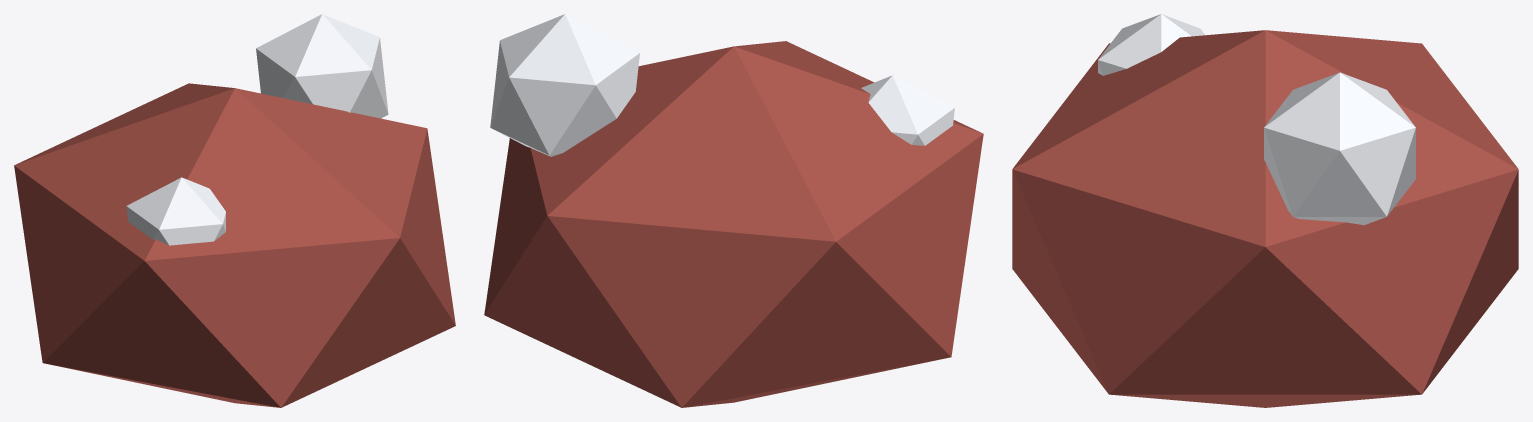
The model's file is gumdrop.fbx.
3 renders of one model, left to right at view 1: azimuth 30°, elevation 25°; view 2: azimuth 150°, elevation 25°; view 3: azimuth 270°, elevation 25°, orthographic. The views are drawn at different scales.
Visible parts, largest first — view 1: gumdrop; view 2: gumdrop; view 3: gumdrop.
Boxes of the visible parts, left/top/right/bottom form: gumdrop: left=14, top=14, right=455, bottom=407; gumdrop: left=484, top=14, right=983, bottom=407; gumdrop: left=1012, top=14, right=1518, bottom=407.
Size of the model in its own units: 30 by 25.16 by 28.53.
